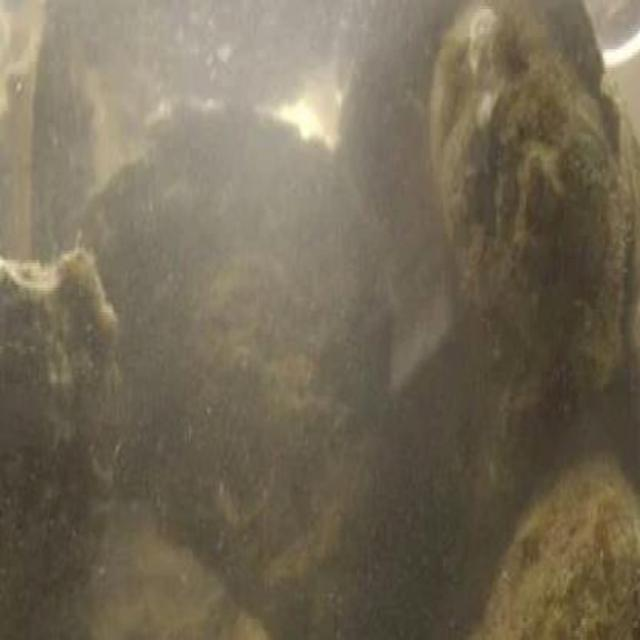Oyster-Closed: (73, 110, 402, 598), (430, 0, 623, 386), (0, 252, 124, 640), (496, 447, 640, 640), (92, 491, 267, 640)
